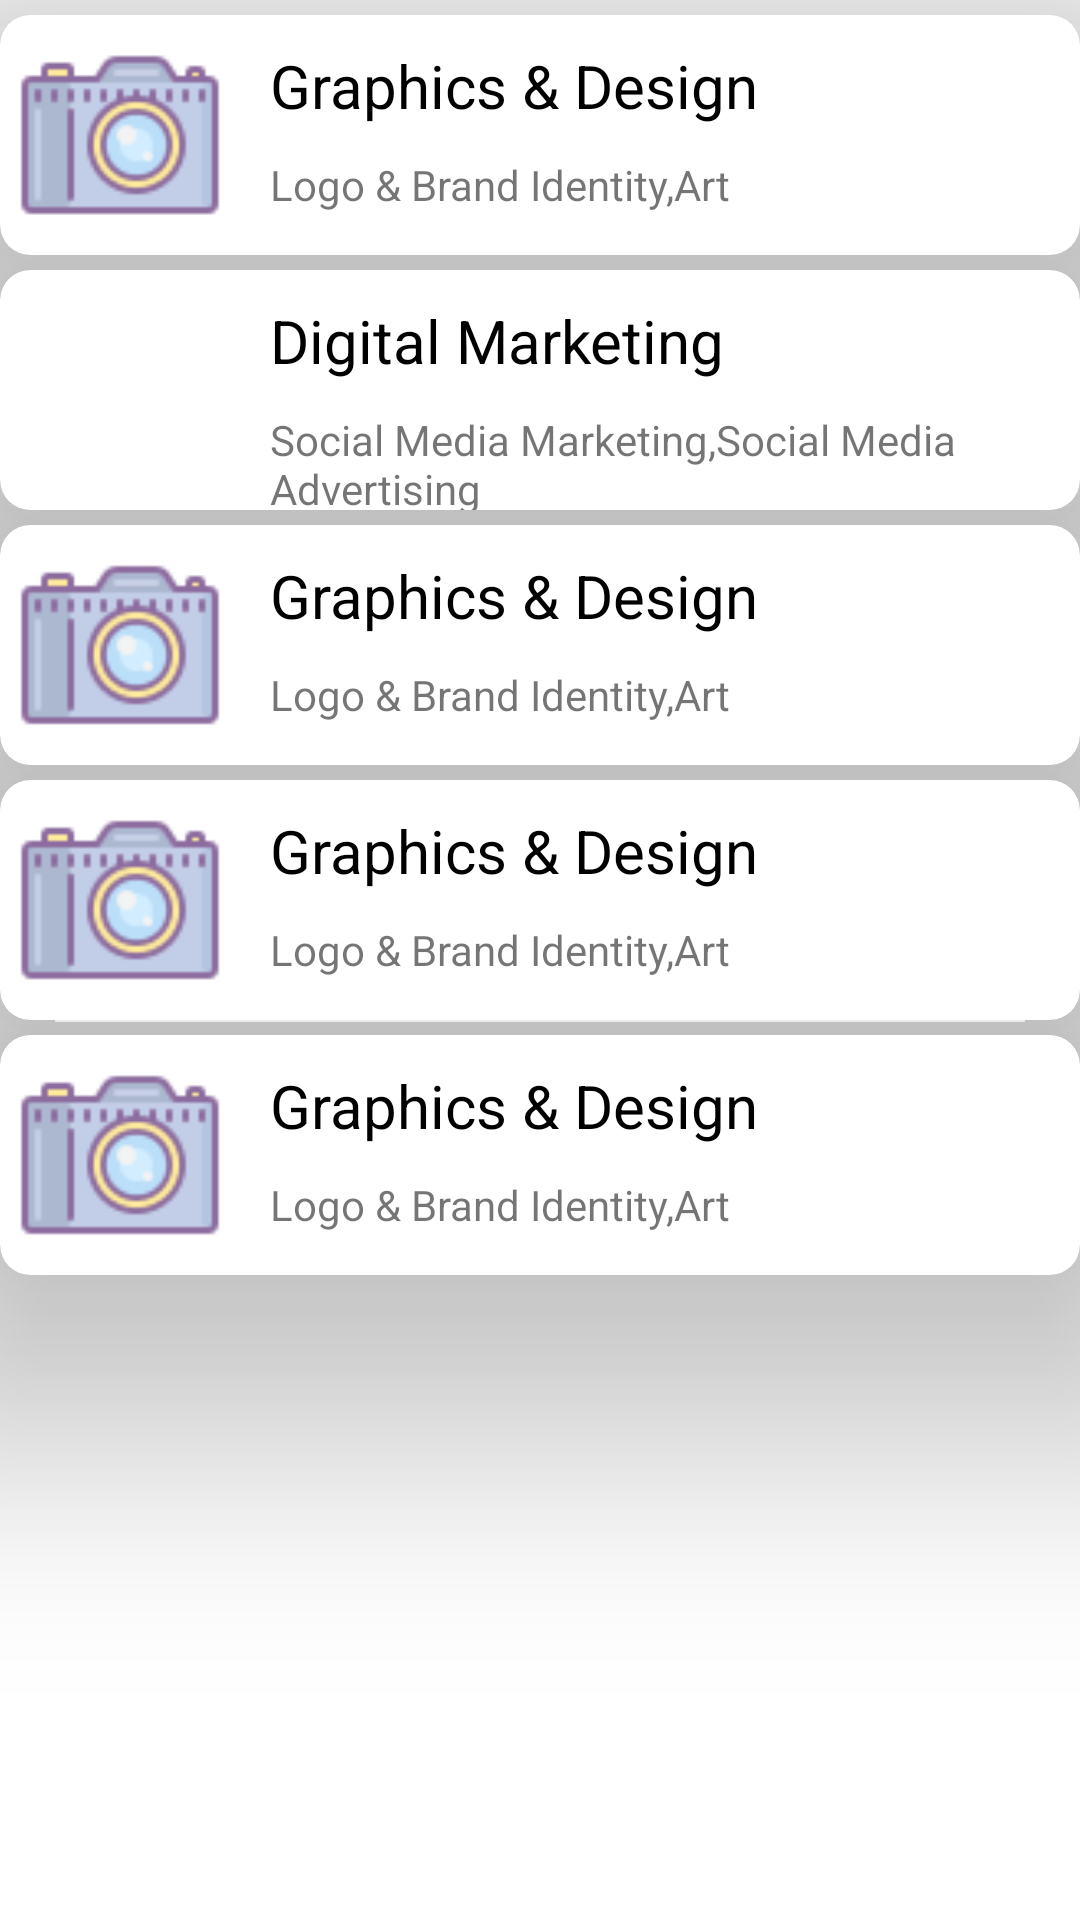

Screen size 1080*1920. Icon name, then its center in pixels as (x,y):
pictureupload: (120,135), (120,645), (120,900), (120,1155)
